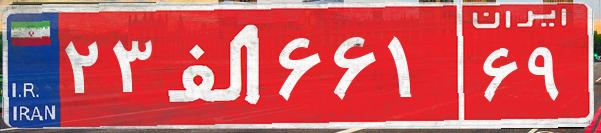1: (385, 28, 445, 110)
2: (57, 26, 110, 107)
3: (110, 28, 158, 105)
6: (273, 28, 330, 110), (330, 28, 385, 110), (475, 38, 525, 113)
9: (525, 38, 570, 115)
الف: (158, 15, 273, 115)
